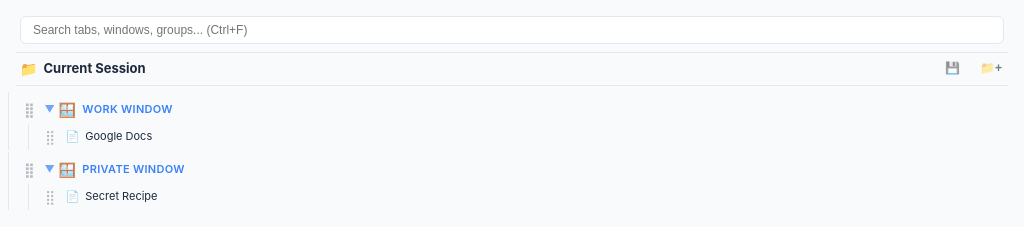
Search Functionality › clears search results when X is clicked
Type "Google" into the field with placeholder "Search tabs, windows, groups... (Ctrl+F)".
click(512, 30); type("Google")  # box [20, 16, 1004, 44]
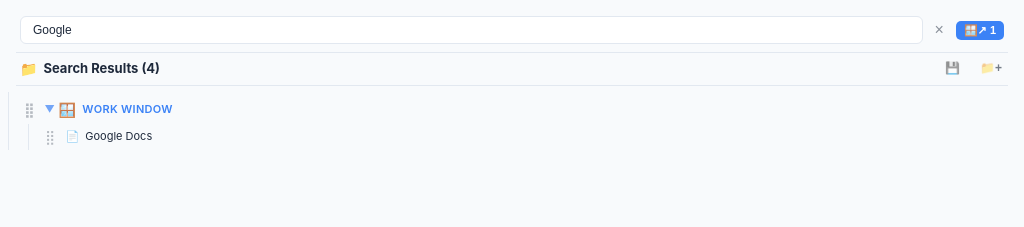
Result: the text "Secret Recipe" is gone
Click the button titled "Clear search".
click(939, 30)  # box [930, 21, 948, 39]
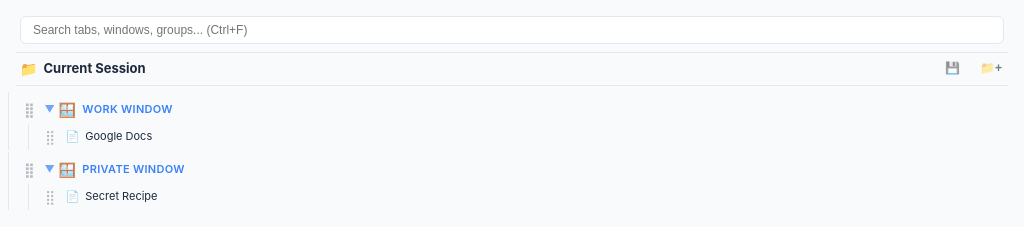
Result: the text "Secret Recipe" is shown at [85, 189, 158, 203]
Result: the field with placeholder "Search tabs, windows, groups... (Ctrl+F)" is empty at [20, 16, 1004, 44]
